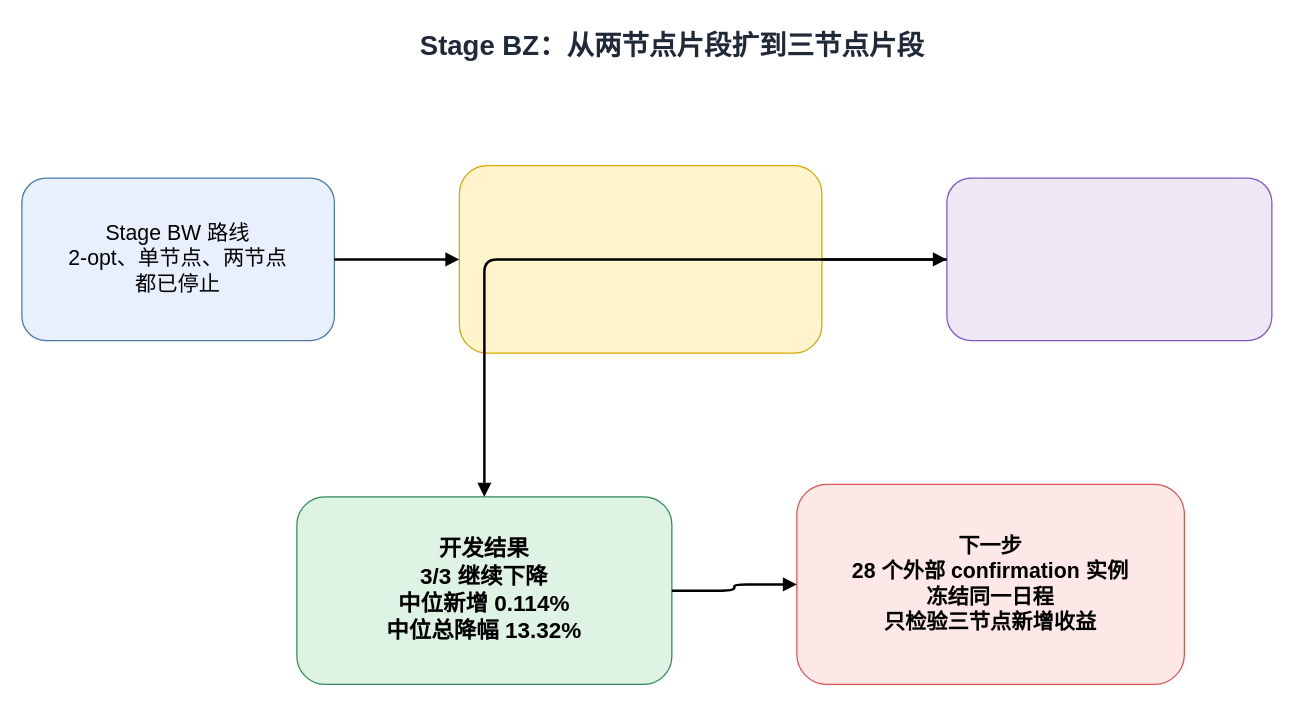
The diagram is 1294 pixels wide and 706 high, and some of its shapes have lost their labels. Here are the shapes that lost their labels. From the top down, the box of each, then its label:
(458, 164, 822, 353): 连续三节点整体移动 首尾各 40 个近邻 最多接受 50 次
(946, 177, 1272, 341): 每次后重新收敛 2-opt → 单节点 → 两节点
